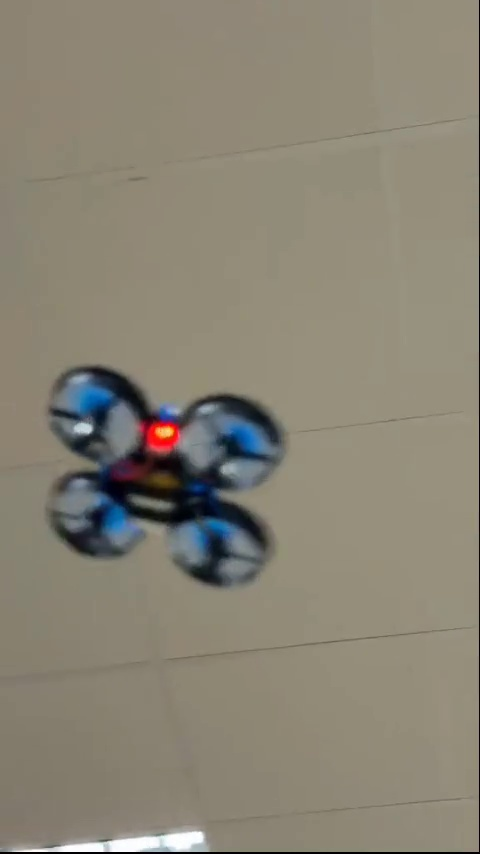drone: (50, 370, 273, 584)
